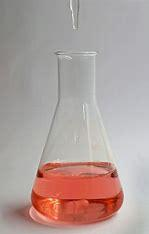Titrarion: (29, 28, 128, 225)
